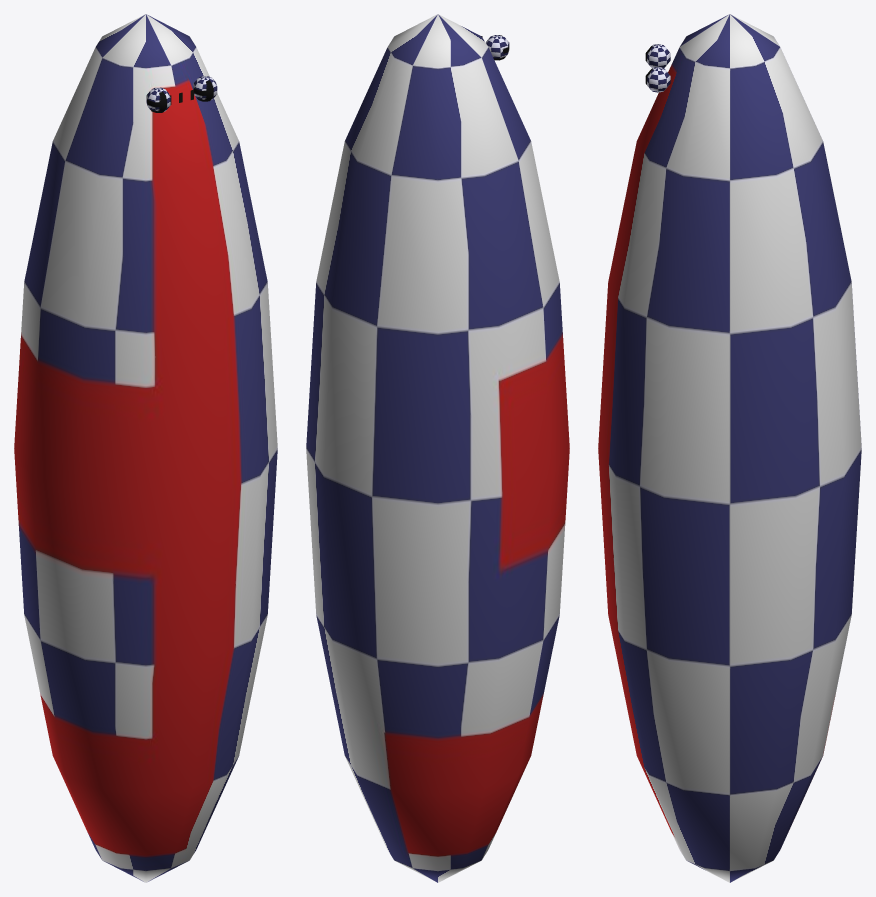
3 views of the same model, side by side, from view 1: azimuth 30°, elevation 25°; view 2: azimuth 150°, elevation 25°; view 3: azimuth 270°, elevation 25° (orthographic).
Parts seen in each view (by area): view 1: body, eyeL; view 2: body; view 3: body, eyeR.
Part boxes in pixels (x1=…): body: x1=14, y1=14, x2=277, y2=882; eyeL: x1=146, y1=87, x2=170, y2=112; body: x1=306, y1=14, x2=569, y2=882; body: x1=598, y1=14, x2=861, y2=882; eyeR: x1=645, y1=67, x2=670, y2=92.
Size of the model in its own units: 0.44 by 1.6 by 0.44.
3 materials, 3 textured.
